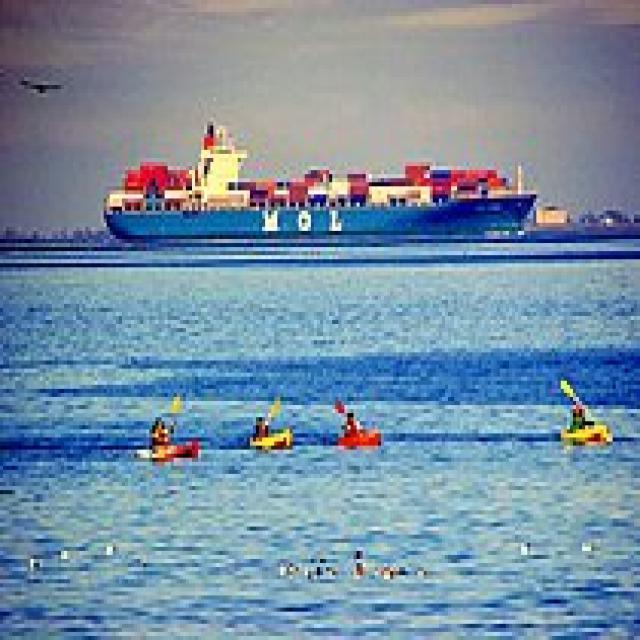Ship: (96, 111, 541, 253)
